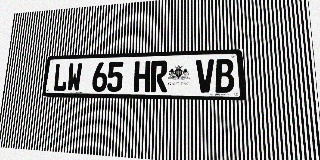5: (107, 62, 124, 92)
6: (92, 62, 108, 92)
B: (215, 59, 235, 93)
H: (134, 61, 151, 92)
L: (53, 63, 68, 91)
R: (150, 60, 168, 92)
V: (196, 59, 215, 93)
W: (66, 63, 83, 92)
